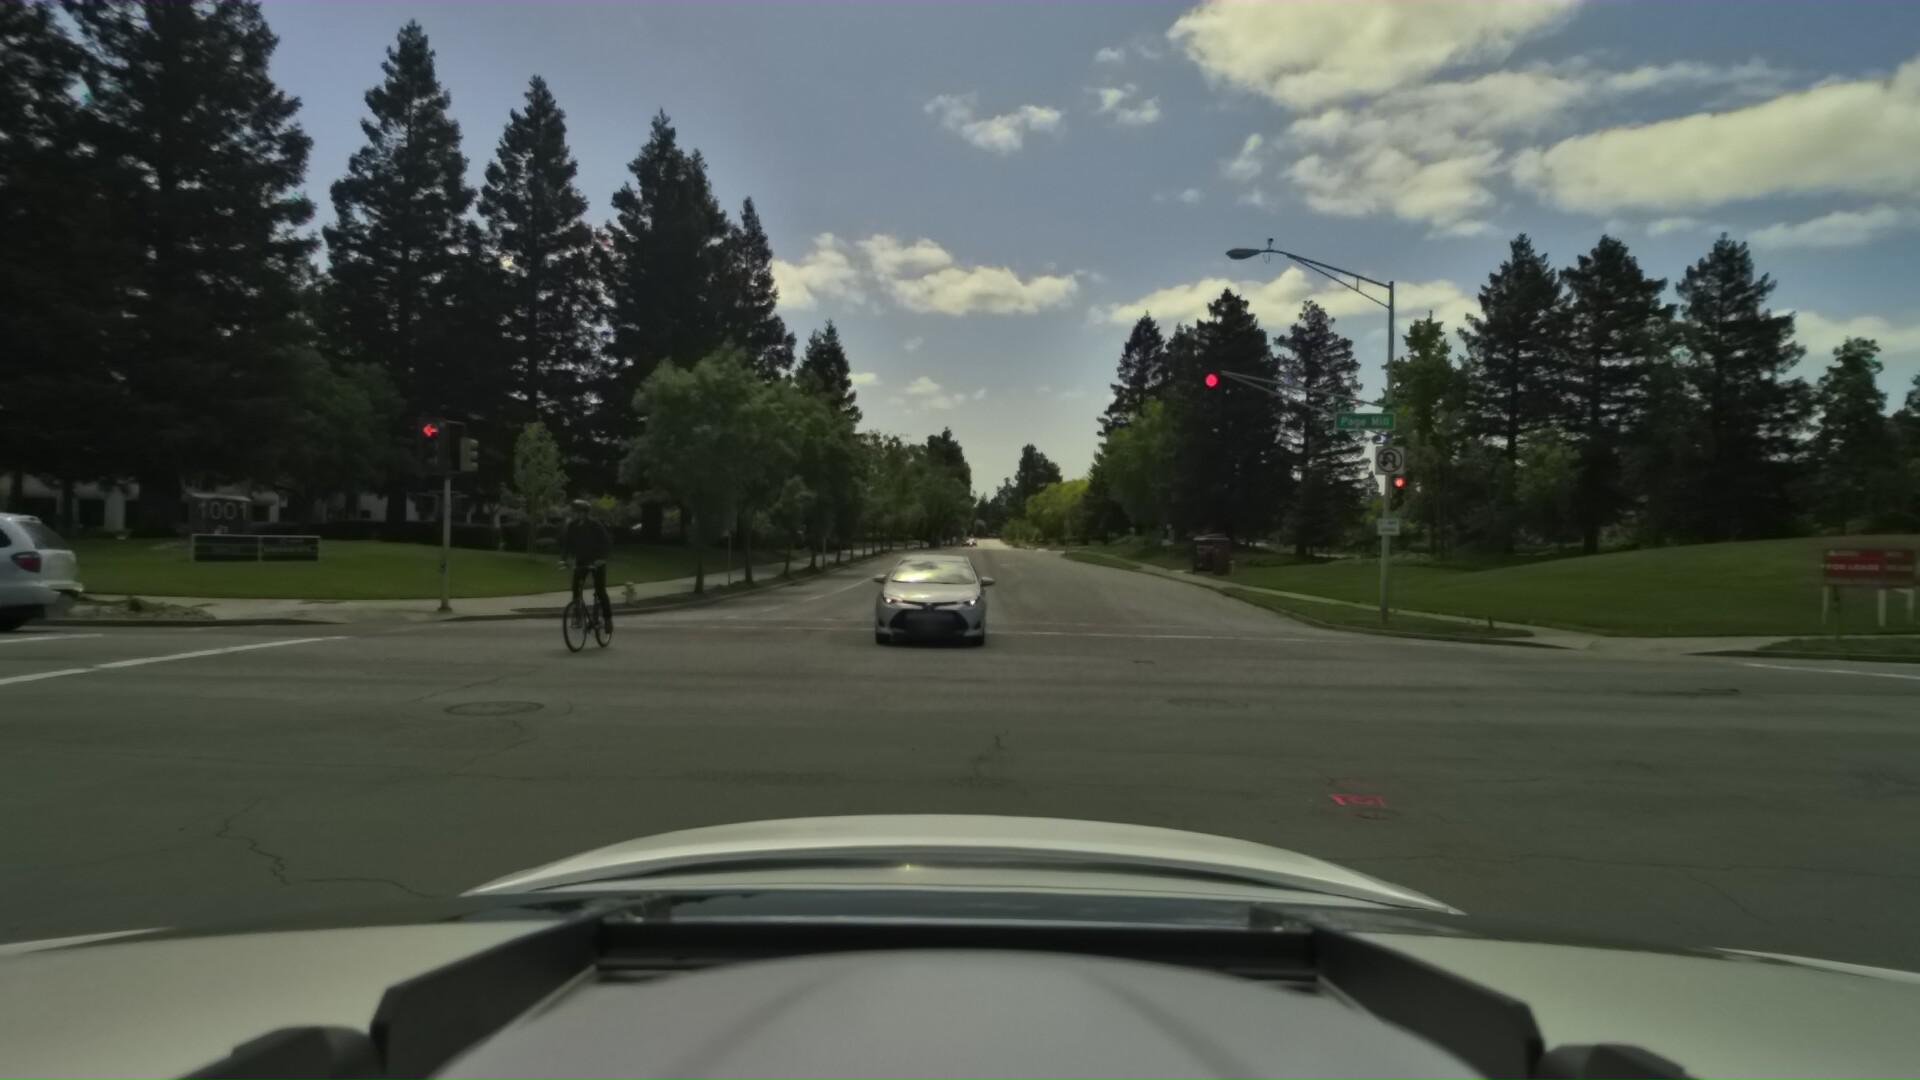bicycle: (514, 493, 640, 658)
car: (851, 534, 981, 651)
